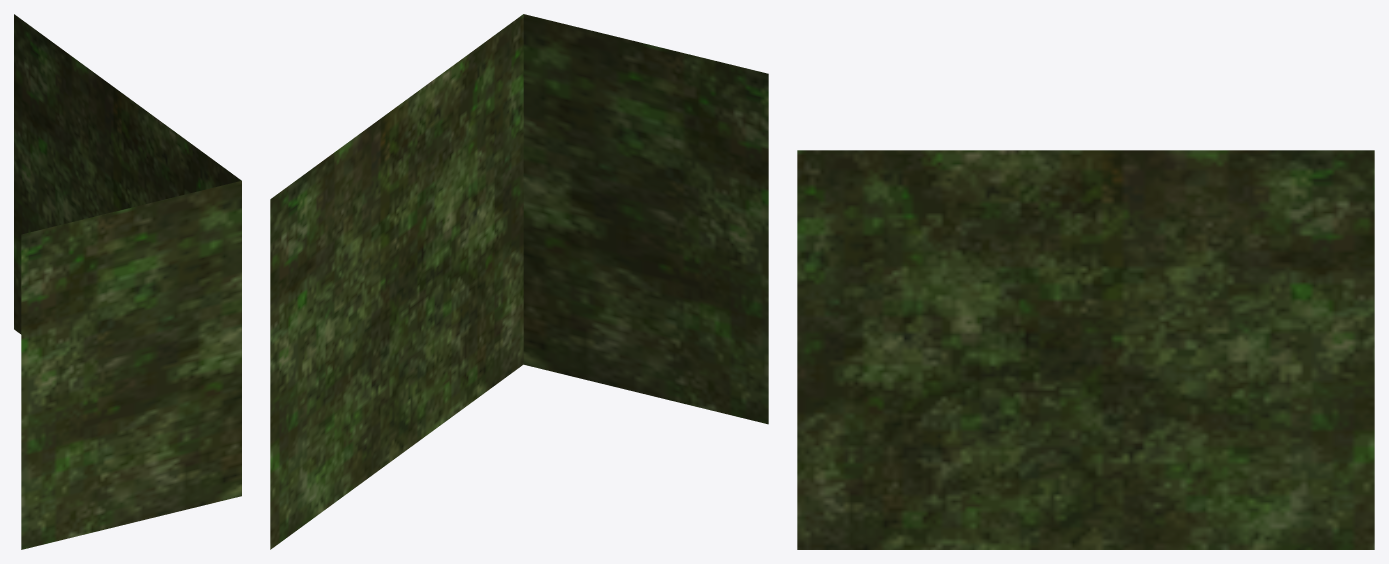
Rendered from OVERHILL_A_01_OBJECT96.fbx.
3 views of the same model, side by side, from view 1: azimuth 30°, elevation 25°; view 2: azimuth 150°, elevation 25°; view 3: azimuth 270°, elevation 25° (orthographic). The views are drawn at different scales.
Visible parts, largest first — view 1: OVERHILL_A_01_OBJECT96; view 2: OVERHILL_A_01_OBJECT96; view 3: OVERHILL_A_01_OBJECT96.
Boxes of the visible parts, <box> form: OVERHILL_A_01_OBJECT96: <box>14,14,241,549</box>; OVERHILL_A_01_OBJECT96: <box>270,14,768,549</box>; OVERHILL_A_01_OBJECT96: <box>797,150,1374,549</box>.
Bounding box in the file's own units: 16852 × 23033 × 30148.
Materials: 1 (1 with a texture image).
